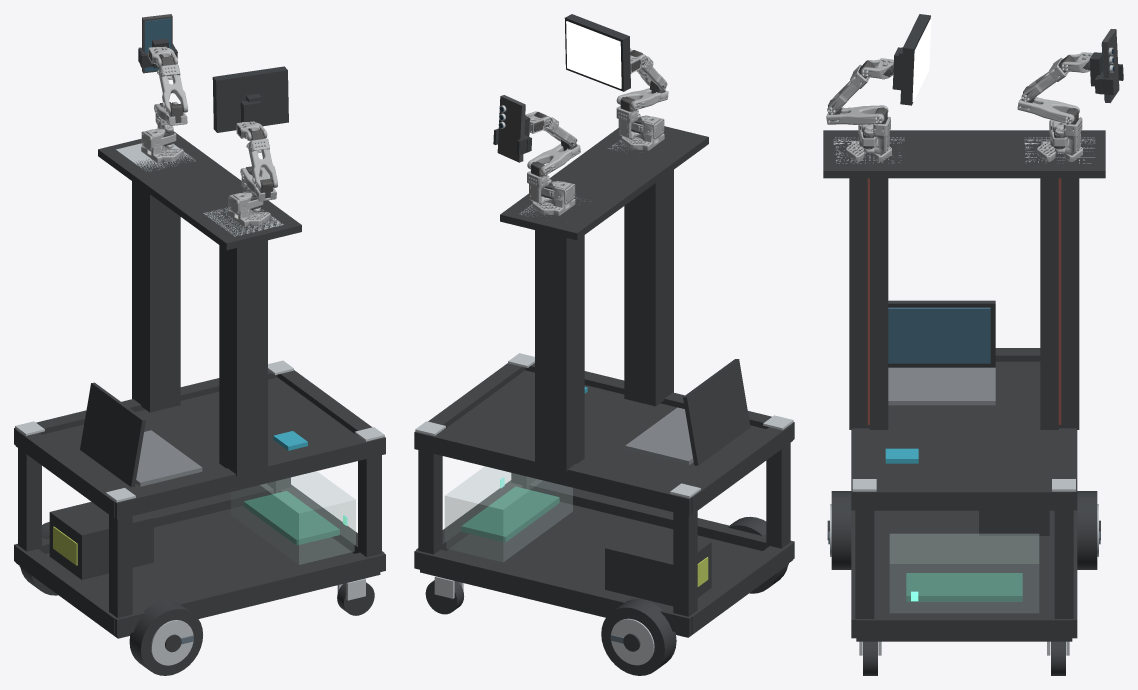
File: take-one-panel.glb
3 views of the same model, side by side, from view 1: azimuth 30°, elevation 25°; view 2: azimuth 150°, elevation 25°; view 3: azimuth 270°, elevation 25° (orthographic). The views are drawn at different scales.
Parts seen in each view (by area): view 1: cart_box, upright_rear, upright_front, cart_work_deck, cart_deck, electronics_box, frame_side_0.25_0.49, frame_side_0.25_0.15, battery, laptop_lid, light_payload, frame_end_-0.39_0.49 (+21 smaller); view 2: upright_front, cart_work_deck, upright_rear, cart_box, cart_deck, electronics_box, frame_side_-0.25_0.49, frame_side_-0.25_0.15, battery, laptop_lid, frame_side_0.25_0.15, frame_end_-0.39_0.15 (+20 smaller); view 3: cart_work_deck, cart_box, cart_deck, electronics_box, upright_rear, upright_front, laptop_screen, frame_end_0.39_0.15, frame_end_0.39_0.49, laptop_keyboard, electronics_board, corner_leg_-0.24_0.38 (+25 smaller).
Part boxes in pixels (x1,y1,x2,y2): cart_box: (19, 506, 380, 638); upright_rear: (219, 240, 267, 476); upright_front: (132, 181, 180, 412); cart_work_deck: (42, 377, 357, 491); cart_deck: (98, 131, 301, 250); electronics_box: (231, 471, 355, 564); frame_side_0.25_0.49: (109, 436, 385, 519); frame_side_0.25_0.15: (109, 552, 385, 636); battery: (49, 501, 153, 579); laptop_lid: (80, 382, 145, 487); light_payload: (212, 66, 288, 132); frame_end_-0.39_0.49: (15, 429, 116, 518); upright_front: (535, 230, 584, 471); cart_work_deck: (443, 370, 765, 487); upright_rear: (624, 170, 673, 406); cart_box: (420, 502, 788, 637); cart_deck: (500, 126, 708, 240); electronics_box: (445, 466, 572, 561); frame_side_-0.25_0.49: (414, 430, 697, 515); frame_side_-0.25_0.15: (414, 549, 697, 635); battery: (605, 524, 711, 606); laptop_lid: (683, 359, 750, 465); frame_side_0.25_0.15: (529, 479, 794, 559); frame_end_-0.39_0.15: (691, 542, 792, 633); cart_work_deck: (869, 361, 1058, 484); cart_box: (856, 510, 1072, 641); cart_deck: (823, 130, 1105, 178); electronics_box: (890, 534, 1038, 612); upright_rear: (849, 178, 888, 429); upright_front: (1040, 178, 1079, 429); laptop_screen: (888, 307, 990, 363); frame_end_0.39_0.15: (856, 612, 1072, 638); frame_end_0.39_0.49: (856, 484, 1072, 510); laptop_keyboard: (888, 367, 995, 405); electronics_board: (906, 573, 1022, 601); corner_leg_-0.24_0.38: (1054, 510, 1073, 618).
Size of the model in its own units: 0.824 by 1.59 by 0.7237.
